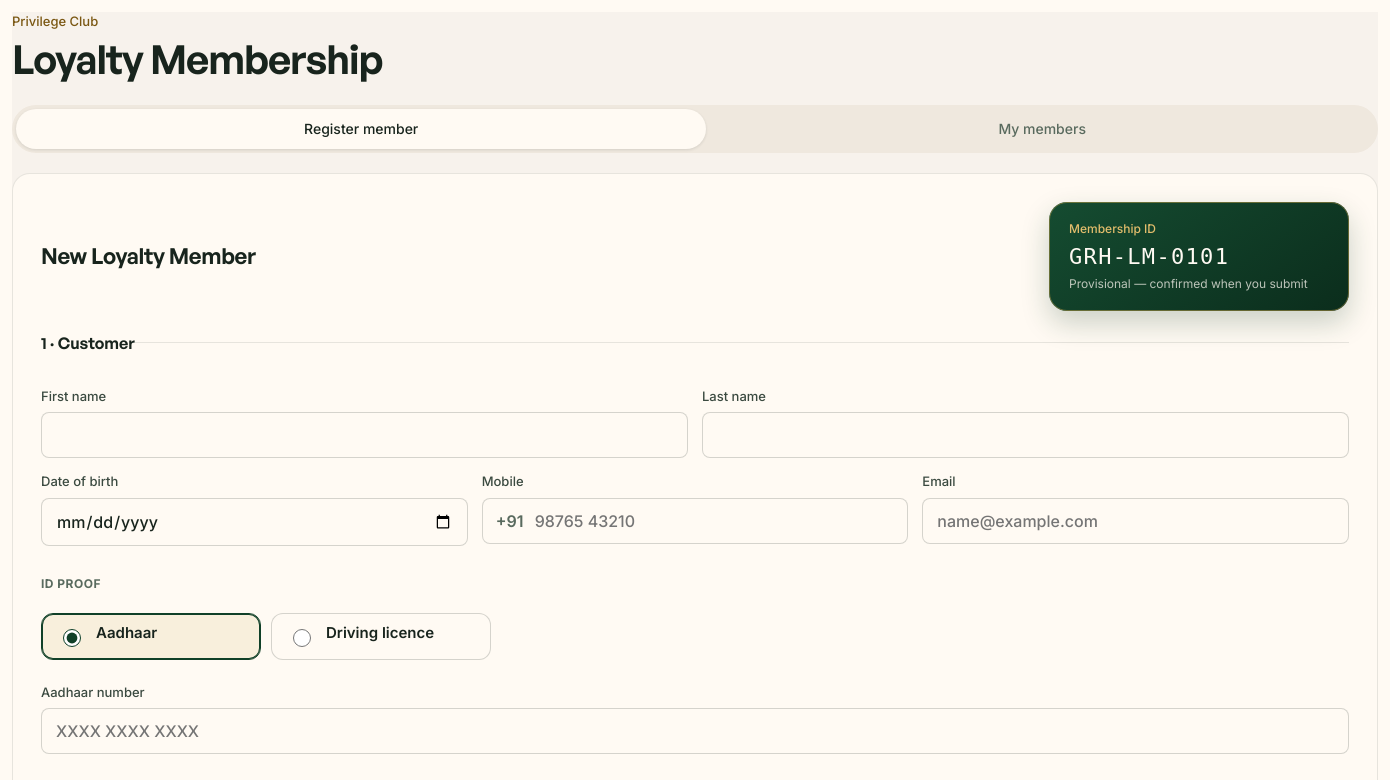
Test: Memberships — Sales Executive › cleans a pasted mobile, ticks a valid one and title-cases names on leaving the field
Later steps or results of the test are not shown.
Check: the text "GRH-LM-0101" is shown, box [1069,244,1229,269]
Type "09876543210" into the field labelled "Mobile +91" at (695, 521), box [482,498,908,544]
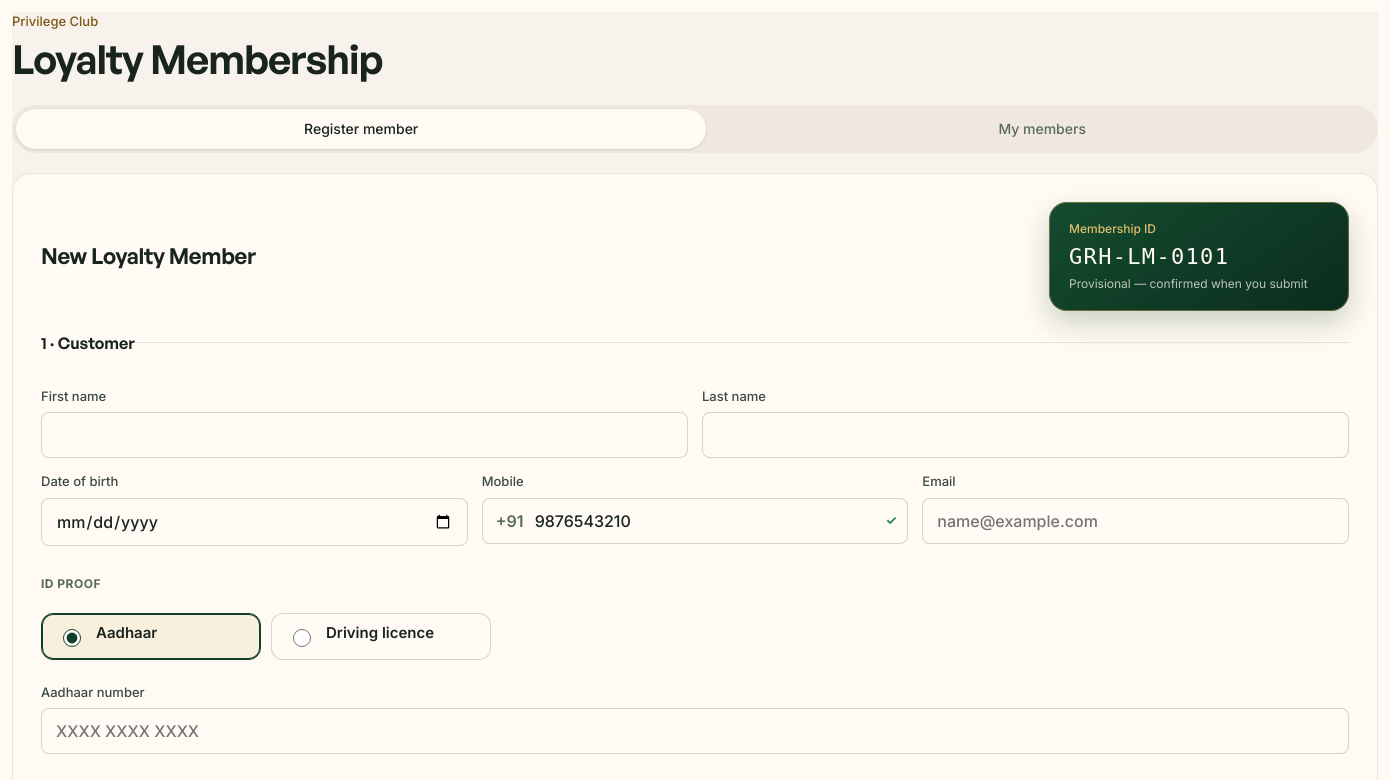
Check: the field labelled "Mobile +91 ✓" holds "9876543210", box [482,498,908,544]
Check: the text named "Valid mobile number" is shown, box [886,511,897,530]
